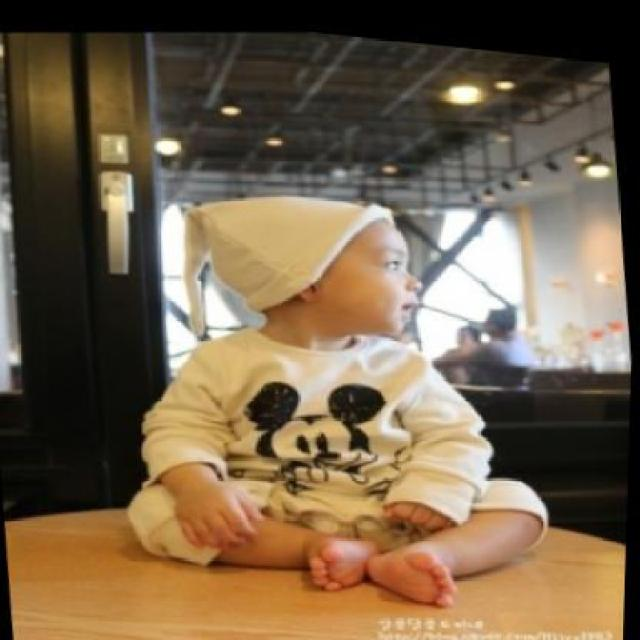hat: (169, 158, 409, 352)
